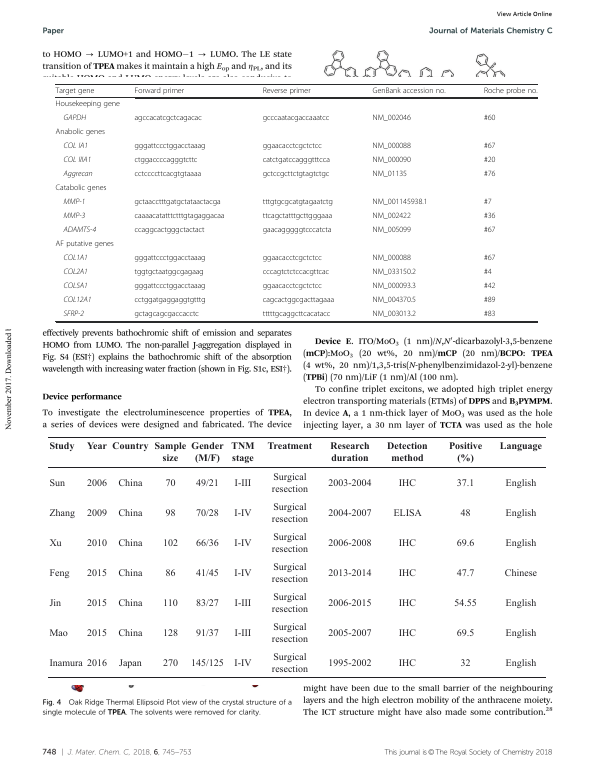borderless: (47, 436, 546, 677), (54, 82, 537, 321)
cell: (386, 442, 428, 465), (329, 442, 370, 465), (270, 502, 309, 526), (133, 211, 225, 221), (270, 473, 309, 496), (270, 532, 309, 555), (270, 562, 309, 585), (270, 592, 309, 615), (270, 622, 309, 645), (270, 652, 309, 675), (133, 197, 222, 207), (448, 442, 483, 465), (153, 442, 187, 465), (190, 442, 224, 465), (133, 141, 206, 151), (133, 253, 206, 263), (133, 281, 206, 291), (133, 295, 206, 305), (262, 295, 335, 305), (262, 197, 334, 207), (133, 225, 205, 235), (133, 267, 205, 277), (262, 211, 333, 221), (133, 113, 203, 123), (262, 225, 332, 235), (262, 155, 331, 165), (133, 169, 202, 179), (262, 309, 331, 319), (262, 113, 330, 123), (262, 169, 330, 179), (262, 267, 330, 277), (372, 86, 447, 95), (133, 309, 200, 319), (55, 99, 121, 109), (133, 155, 198, 165), (262, 141, 323, 151), (54, 239, 115, 249), (262, 253, 323, 263), (262, 281, 323, 291), (230, 442, 255, 465), (372, 197, 428, 207), (327, 508, 372, 520), (55, 183, 107, 193), (266, 442, 313, 453), (55, 127, 106, 137), (483, 86, 538, 95), (498, 442, 543, 453), (327, 479, 372, 490), (327, 538, 372, 549), (327, 568, 372, 579), (327, 598, 372, 609), (327, 628, 372, 639), (327, 658, 372, 669), (133, 86, 185, 95), (372, 267, 417, 277), (372, 281, 417, 291), (372, 295, 417, 305), (372, 309, 417, 319), (262, 86, 311, 95), (111, 442, 149, 453), (372, 113, 412, 123), (372, 141, 412, 151), (372, 155, 412, 165), (372, 211, 412, 221), (372, 225, 412, 235), (372, 253, 412, 263), (504, 508, 537, 520), (503, 568, 538, 579), (48, 658, 83, 669), (190, 658, 224, 669), (504, 479, 537, 490), (504, 538, 537, 549), (504, 598, 537, 609), (504, 628, 537, 639), (504, 658, 537, 669), (55, 86, 95, 95), (372, 169, 408, 179), (392, 508, 422, 520), (48, 508, 76, 520), (62, 225, 97, 234), (117, 508, 143, 520), (62, 169, 93, 179), (62, 155, 92, 165), (48, 442, 75, 453), (195, 508, 219, 520), (117, 479, 143, 490), (117, 538, 143, 549), (117, 568, 143, 579), (117, 598, 143, 609), (117, 628, 143, 639), (62, 141, 89, 151), (62, 295, 92, 304), (195, 479, 219, 490), (86, 508, 108, 520), (195, 538, 219, 549), (195, 568, 219, 579), (195, 598, 219, 609), (453, 598, 477, 609), (195, 628, 219, 639), (118, 658, 142, 669), (62, 113, 87, 123), (62, 253, 89, 262), (62, 267, 89, 276), (62, 281, 89, 290), (86, 442, 108, 453), (85, 479, 107, 490), (85, 538, 107, 549), (48, 568, 70, 579), (86, 568, 108, 579), (86, 598, 108, 609), (86, 628, 108, 639), (86, 658, 108, 669), (233, 508, 252, 520), (397, 479, 417, 490), (455, 479, 475, 490), (397, 538, 417, 549), (455, 538, 475, 549), (397, 568, 417, 579), (455, 568, 475, 579), (397, 598, 417, 609), (48, 628, 68, 639), (397, 628, 417, 639), (455, 628, 475, 639), (397, 658, 417, 669), (62, 197, 86, 206), (62, 211, 86, 220), (233, 479, 252, 490), (233, 538, 252, 549), (233, 568, 252, 579), (233, 598, 252, 609), (233, 628, 252, 639), (233, 658, 252, 669), (62, 309, 85, 318), (48, 479, 66, 490), (162, 538, 179, 549), (162, 628, 179, 639), (162, 658, 179, 669), (162, 598, 178, 609), (48, 538, 62, 549), (48, 598, 62, 609), (164, 508, 176, 520), (459, 508, 471, 520), (164, 479, 176, 490), (164, 568, 176, 579), (459, 658, 471, 669), (483, 113, 496, 123), (483, 141, 496, 151), (483, 155, 496, 165), (483, 169, 496, 179), (483, 211, 496, 221), (483, 225, 496, 235), (483, 253, 496, 263), (483, 281, 496, 291), (483, 295, 496, 305), (483, 309, 496, 319), (483, 197, 492, 207), (483, 267, 492, 277)
